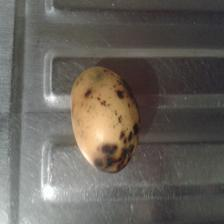Mango Semirotten: (65, 56, 143, 173)
